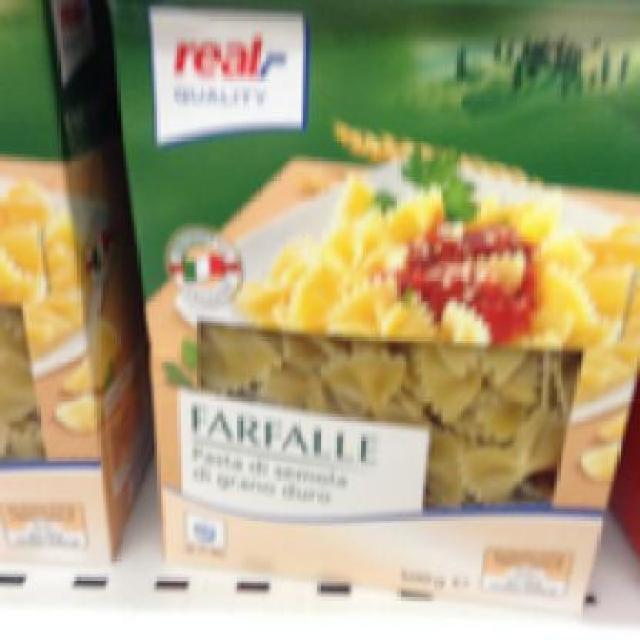Pasta: (112, 0, 638, 606)
